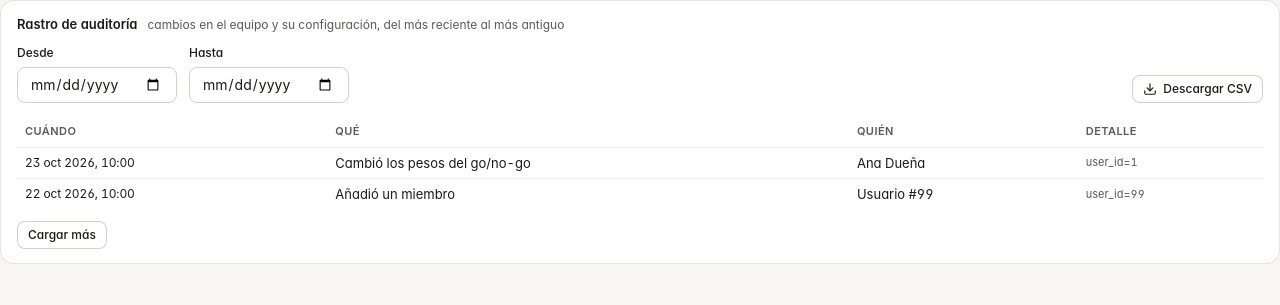
Test: AuditoriaOrganizacionCard › nombra cada evento y a su actor, y pagina con el cursor de la API
Expected: the row "Cambió los pesos del go/no-go" shows "Ana Dueña", [857, 155, 925, 171]
Expected: the row "22 oct 2026, 10:00 Añadió un miembro Usuario #99 user_id=99" is shown, [17, 179, 1263, 209]
Click the button "Cargar más". click: (62, 235)
box: [17, 221, 107, 249]
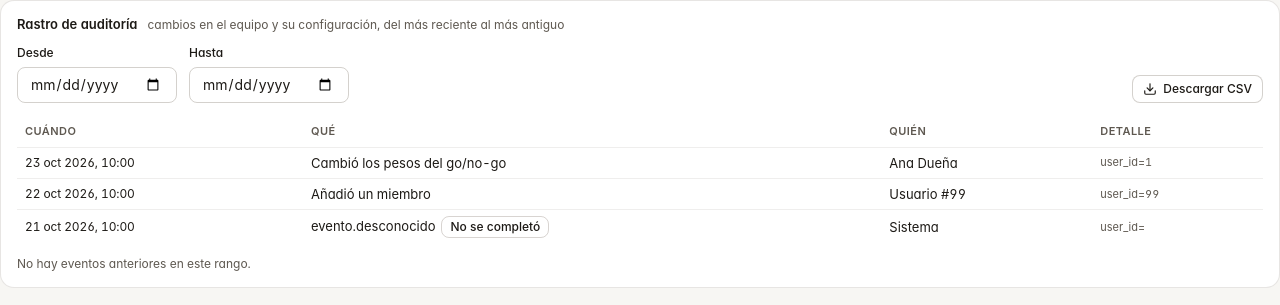
Now the row "evento.desconocido" shows "Sistema", box [889, 219, 939, 235]
Now the row "evento.desconocido" shows "No se completó", box [450, 219, 540, 234]
Now the text "No hay eventos anteriores en este rango." is shown, box [17, 256, 251, 271]
